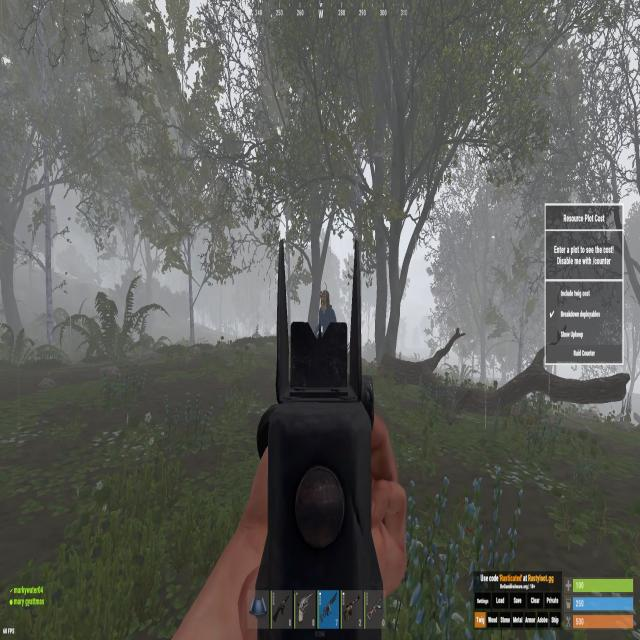Player: (318, 288, 337, 322)
